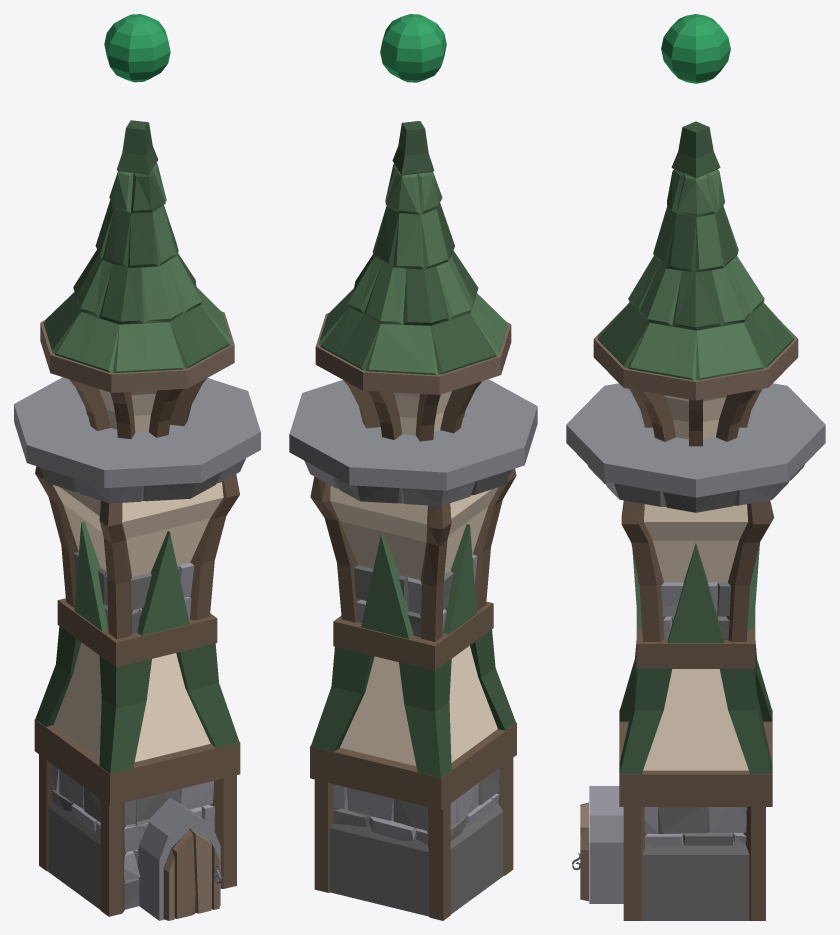
Rendered from Wizard_Tower_lv2.gltf.
The picture shows the model from 3 angles, left to right: view 1: azimuth 30°, elevation 25°; view 2: azimuth 150°, elevation 25°; view 3: azimuth 270°, elevation 25°; orthographic projection.
Visible parts, largest first — view 1: Wizard_Tower_LVL_2_Body, Wizard_Tower_LVL_2_Head; view 2: Wizard_Tower_LVL_2_Body, Wizard_Tower_LVL_2_Head; view 3: Wizard_Tower_LVL_2_Body, Wizard_Tower_LVL_2_Head.
Part boxes in pixels (x1,y1,x2,y2): Wizard_Tower_LVL_2_Body: (14, 120, 260, 920); Wizard_Tower_LVL_2_Head: (104, 14, 170, 82); Wizard_Tower_LVL_2_Body: (289, 121, 537, 920); Wizard_Tower_LVL_2_Head: (380, 14, 446, 82); Wizard_Tower_LVL_2_Body: (566, 121, 825, 920); Wizard_Tower_LVL_2_Head: (661, 14, 730, 83).
Bounding box in the file's own units: 2.76 × 10.23 × 2.76.
2 materials, 2 textured.
